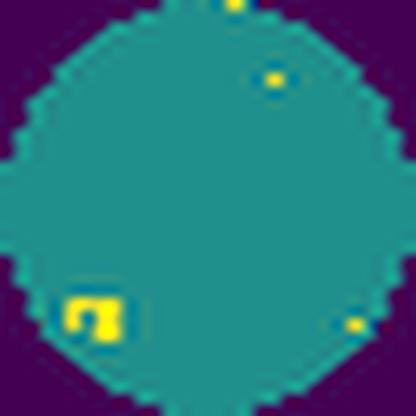Loc: (64, 292, 124, 346)
